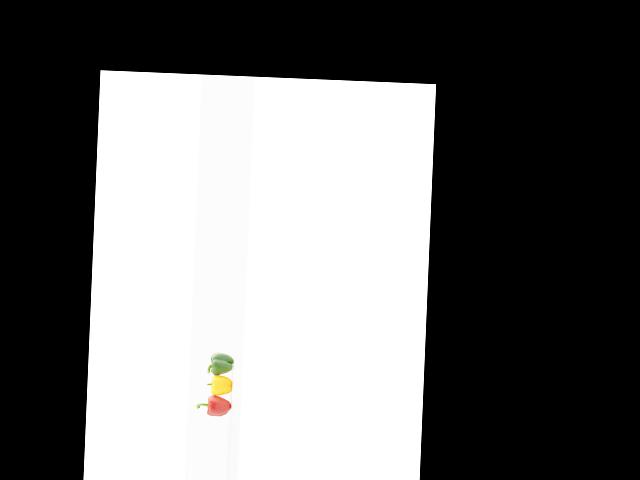bell_pepper: (193, 392, 235, 423)
